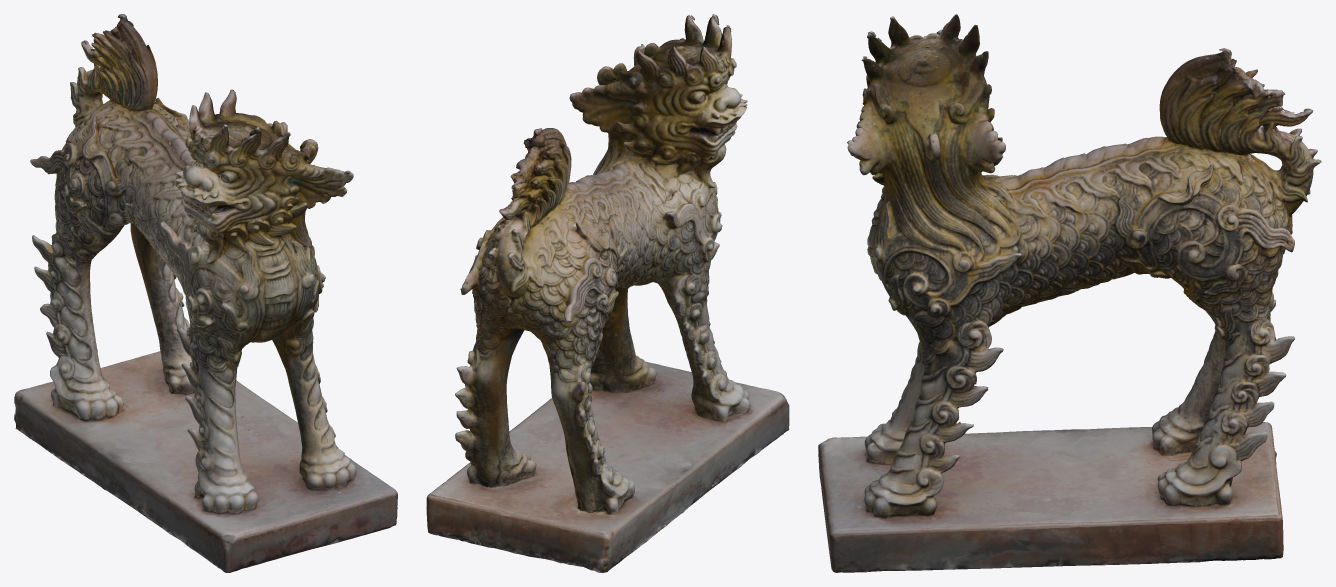
The model's file is NgheThaiHoa.fbx.
3 renders of one model, left to right at view 1: azimuth 30°, elevation 25°; view 2: azimuth 150°, elevation 25°; view 3: azimuth 270°, elevation 25°, orthographic. The views are drawn at different scales.
Parts seen in each view (by area): view 1: NgheThaiHoa; view 2: NgheThaiHoa; view 3: NgheThaiHoa.
Part boxes in pixels (bbox=[...]): NgheThaiHoa: bbox=[14, 14, 397, 572]; NgheThaiHoa: bbox=[426, 14, 789, 572]; NgheThaiHoa: bbox=[818, 14, 1321, 572].
Bounding box in the file's own units: 0.5311 × 1.1 × 1.05.
